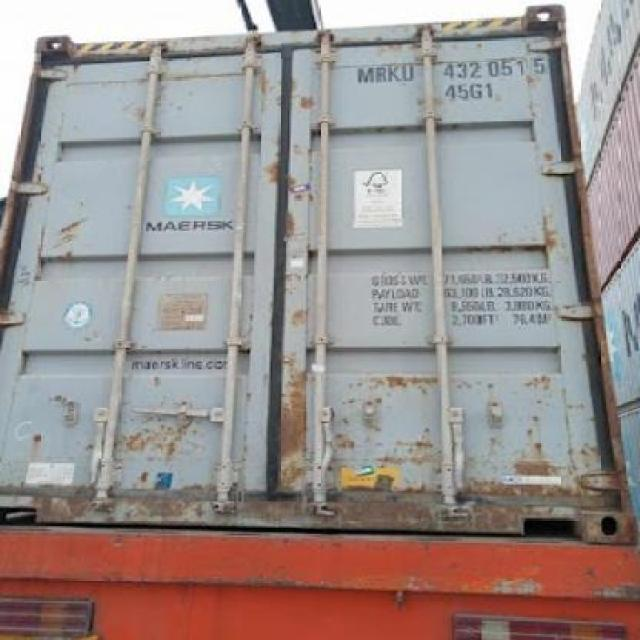ISO: (444, 81, 495, 100)
container_number: (359, 58, 536, 80)
